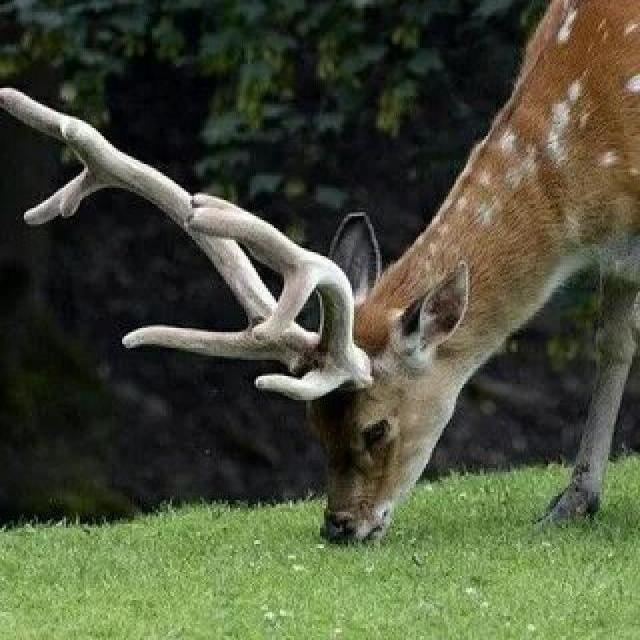deer: (152, 0, 640, 544)
